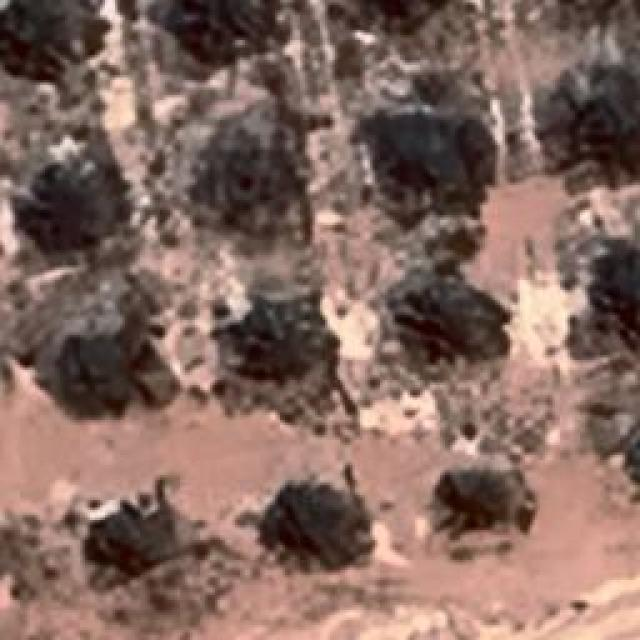PalmTree: (93, 14, 402, 58), (378, 112, 486, 206), (271, 486, 369, 576), (209, 142, 309, 228), (24, 162, 114, 242), (404, 280, 478, 370), (565, 85, 640, 170), (0, 0, 67, 82), (241, 306, 319, 376), (441, 466, 511, 534), (86, 504, 149, 578), (64, 332, 124, 406), (0, 517, 51, 595), (592, 248, 640, 322), (555, 0, 640, 28), (354, 0, 451, 18), (548, 0, 636, 18), (629, 421, 640, 512)
